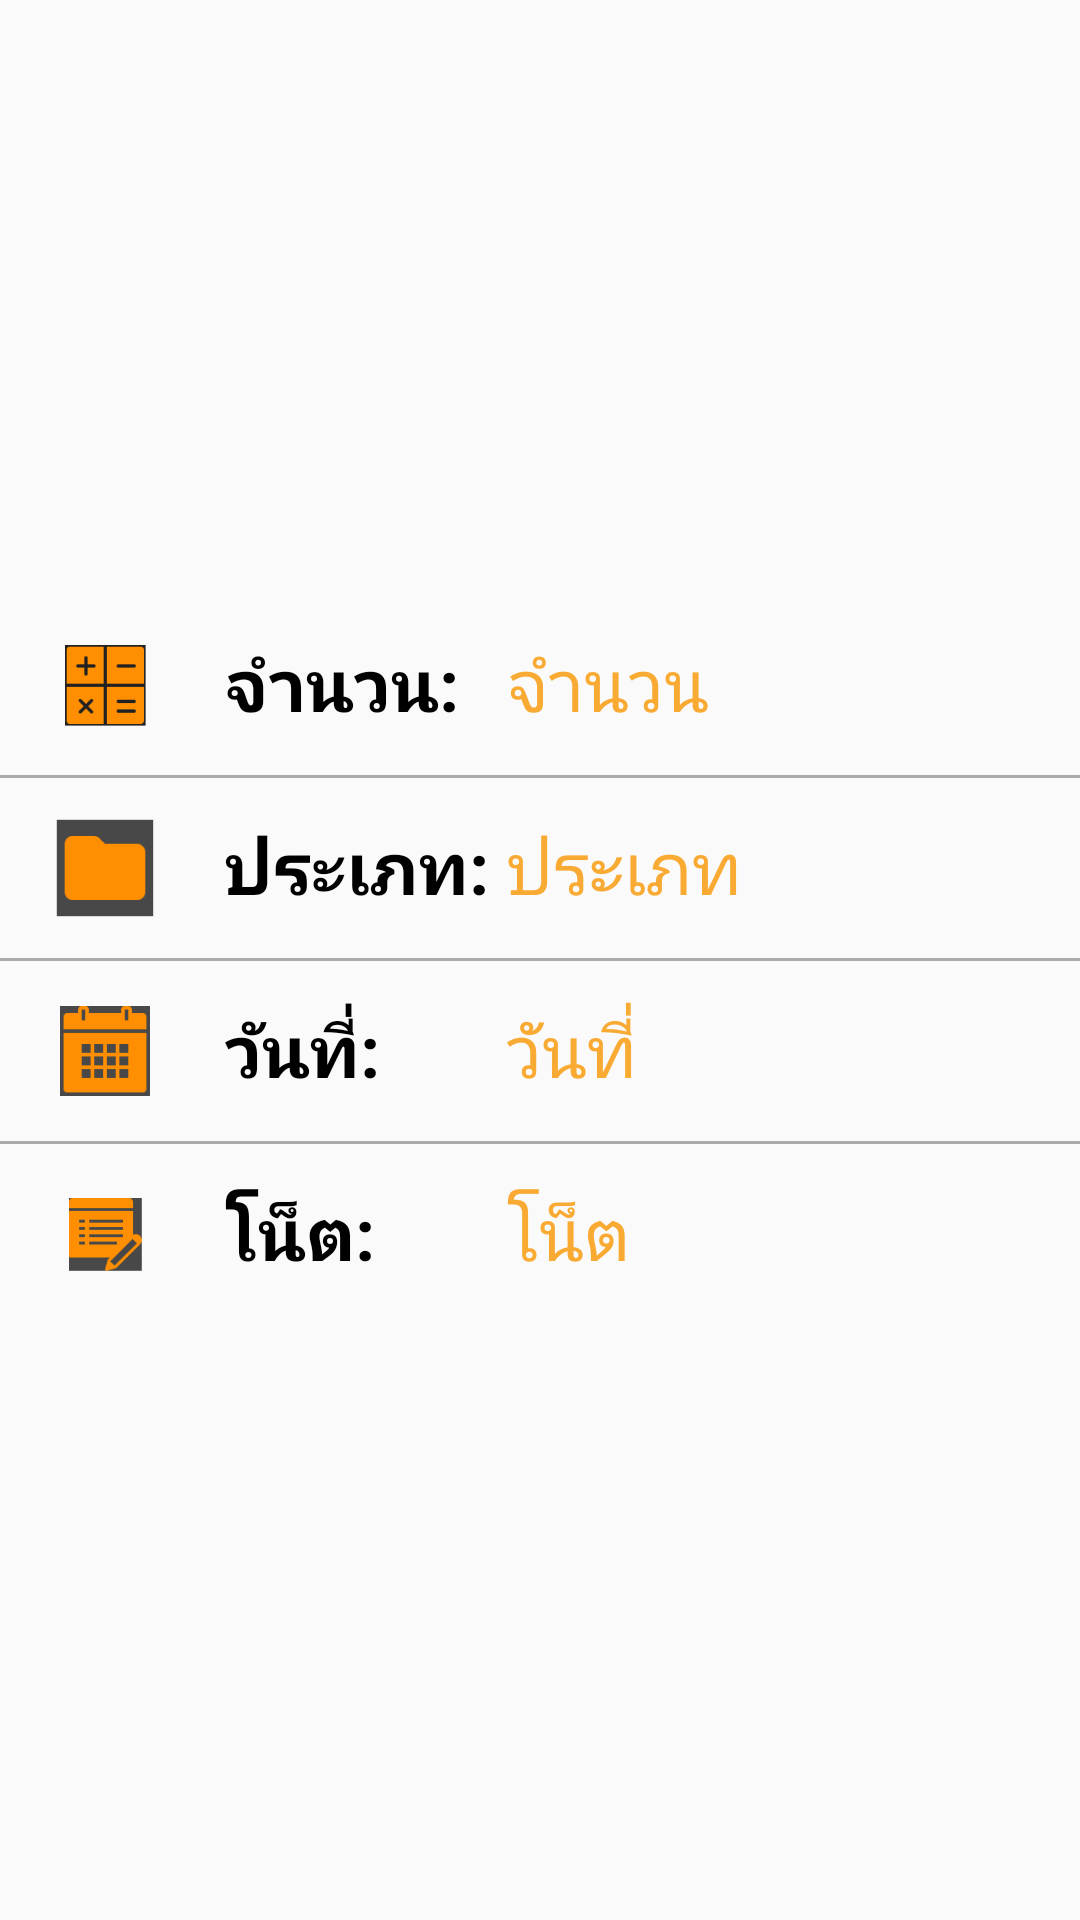

Point at icon controls on the screen. Image size 1080w x 1920h, points as [x,y].
calendar: [105,1051]
folderimage: [105,868]
notes: [105,1234]
